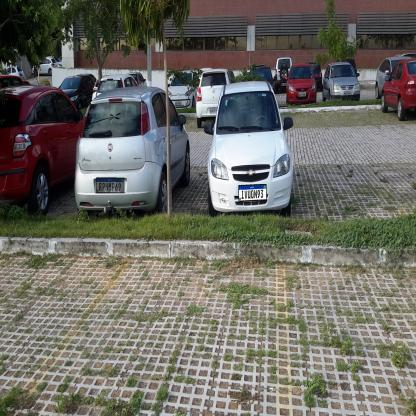PlacaM: (238, 184, 267, 202), (96, 178, 124, 194)
